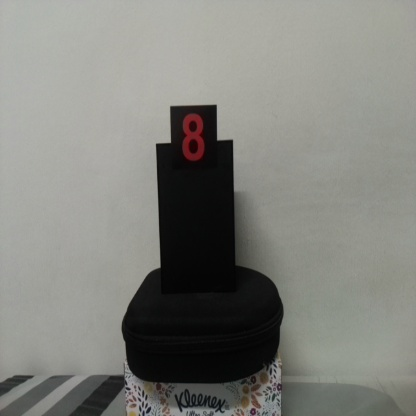id_8: (171, 107, 217, 175)
